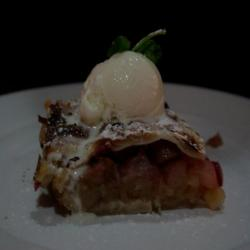apple_pie: (19, 92, 233, 221)
icecream: (70, 42, 178, 135)
